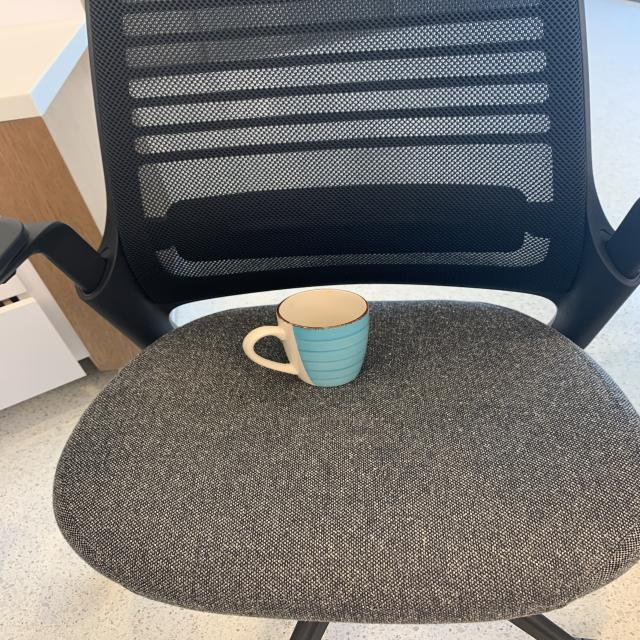Cup: (233, 286, 381, 391)
